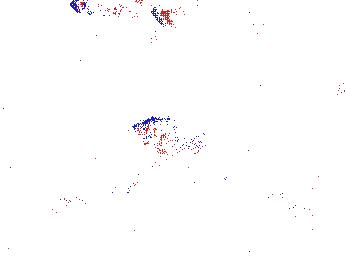X-ray fish: (133, 115, 181, 157)
glassfish: (110, 131, 214, 206)
redtail glassfish: (70, 1, 179, 30), (146, 30, 163, 62), (245, 6, 267, 27)
